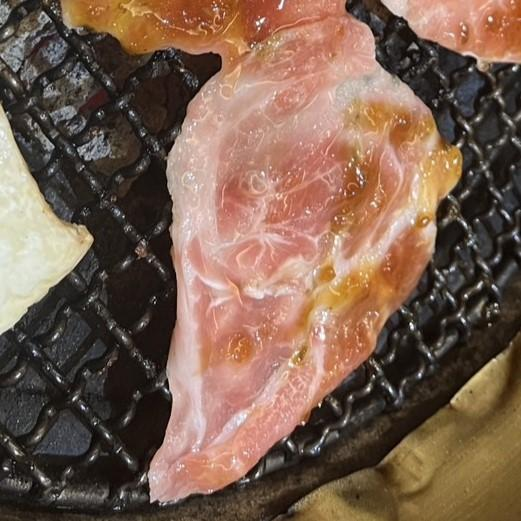Undercooked: (61, 0, 461, 501)
